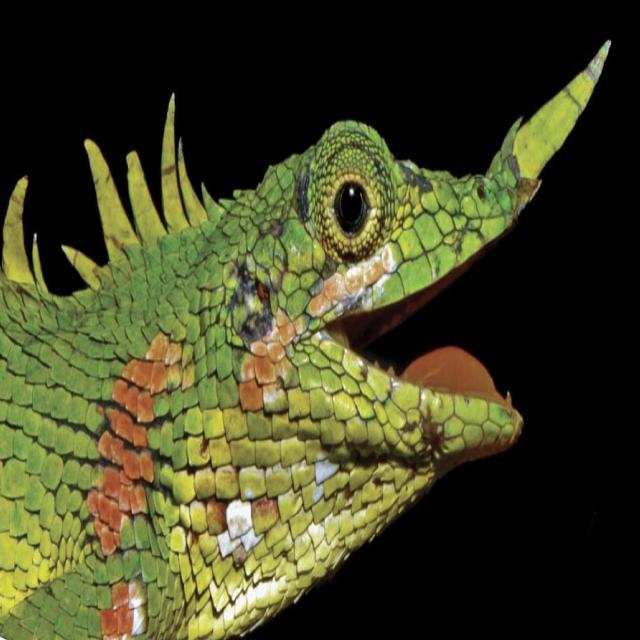lizard: (0, 42, 609, 639)
